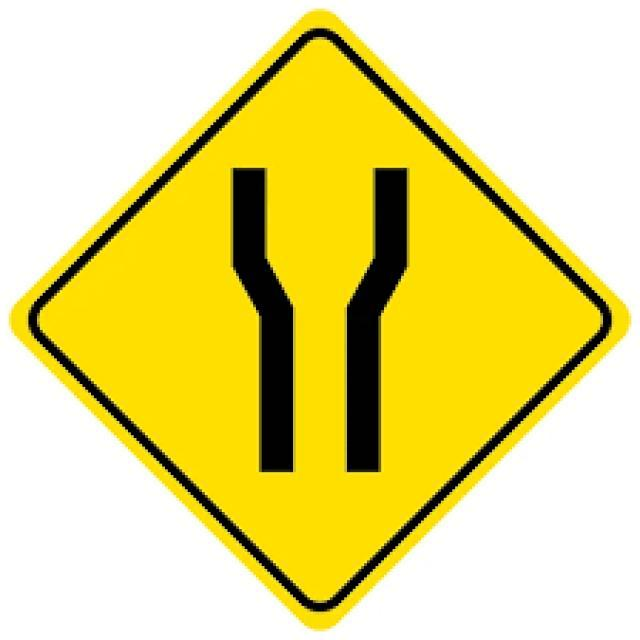road widens ahead: (27, 30, 612, 618)
